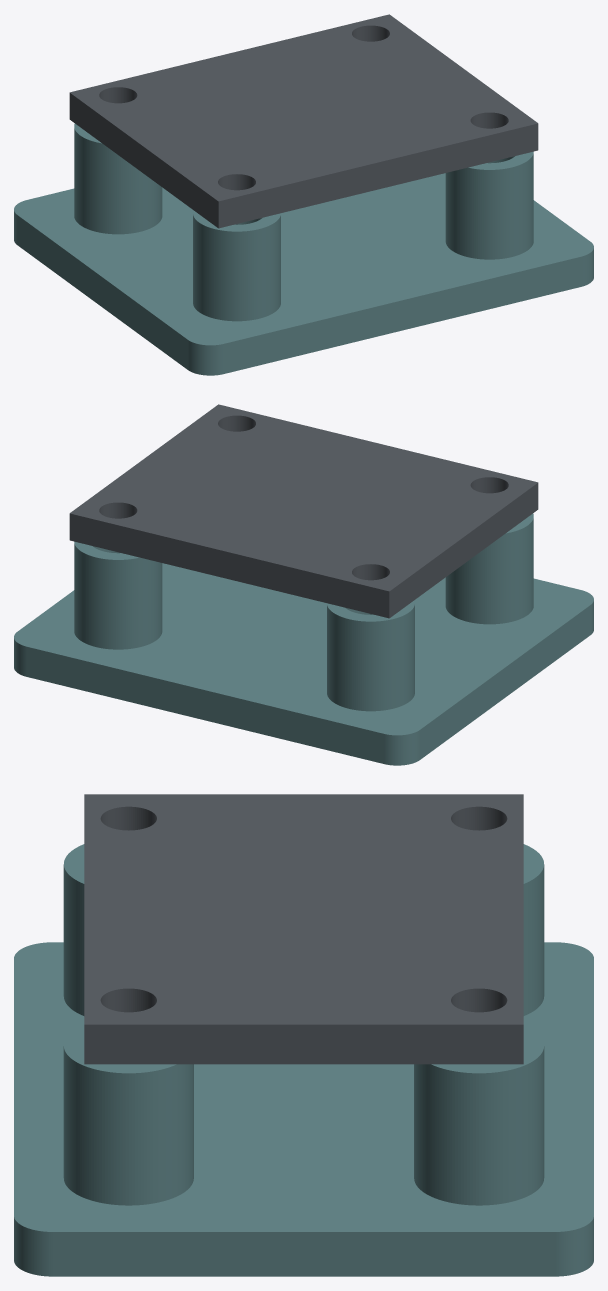
Rendered from pam8610-amp-cradle-v1.glb.
3 renders of one model, top to bottom at view 1: azimuth 30°, elevation 25°; view 2: azimuth 150°, elevation 25°; view 3: azimuth 270°, elevation 25°, orthographic. The views are drawn at different scales.
Parts seen in each view (by area): view 1: amp_cradle_printable, pcb_31x25_reference_only; view 2: amp_cradle_printable, pcb_31x25_reference_only; view 3: amp_cradle_printable, pcb_31x25_reference_only.
Boxes of the visible parts, bbox=[...] form: amp_cradle_printable: bbox=[14, 123, 593, 375]; pcb_31x25_reference_only: bbox=[69, 14, 538, 228]; amp_cradle_printable: bbox=[14, 513, 593, 765]; pcb_31x25_reference_only: bbox=[69, 404, 538, 618]; amp_cradle_printable: bbox=[14, 844, 593, 1276]; pcb_31x25_reference_only: bbox=[84, 794, 523, 1064].
Bounding box in the file's own units: 0.039 × 0.0139 × 0.033.
